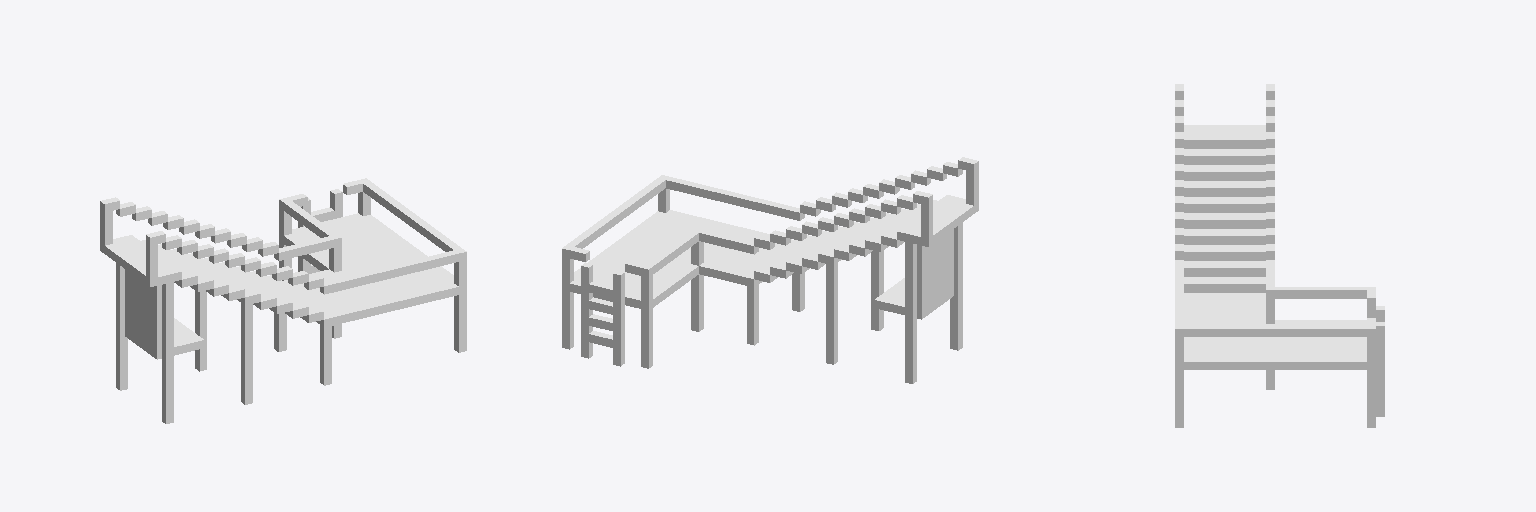
The model's file is port.obj.
The picture shows the model from 3 angles: view 1: azimuth 30°, elevation 25°; view 2: azimuth 150°, elevation 25°; view 3: azimuth 270°, elevation 25°; orthographic projection.
Visible parts, largest first — view 1: object 1; view 2: object 1; view 3: object 1.
Part boxes in pixels (left/top/right/bottom): object 1: left=100, top=178, right=466, bottom=423; object 1: left=562, top=157, right=978, bottom=383; object 1: left=1175, top=84, right=1384, bottom=427.
Size of the model in its own units: 4 by 2.3 by 2.3.